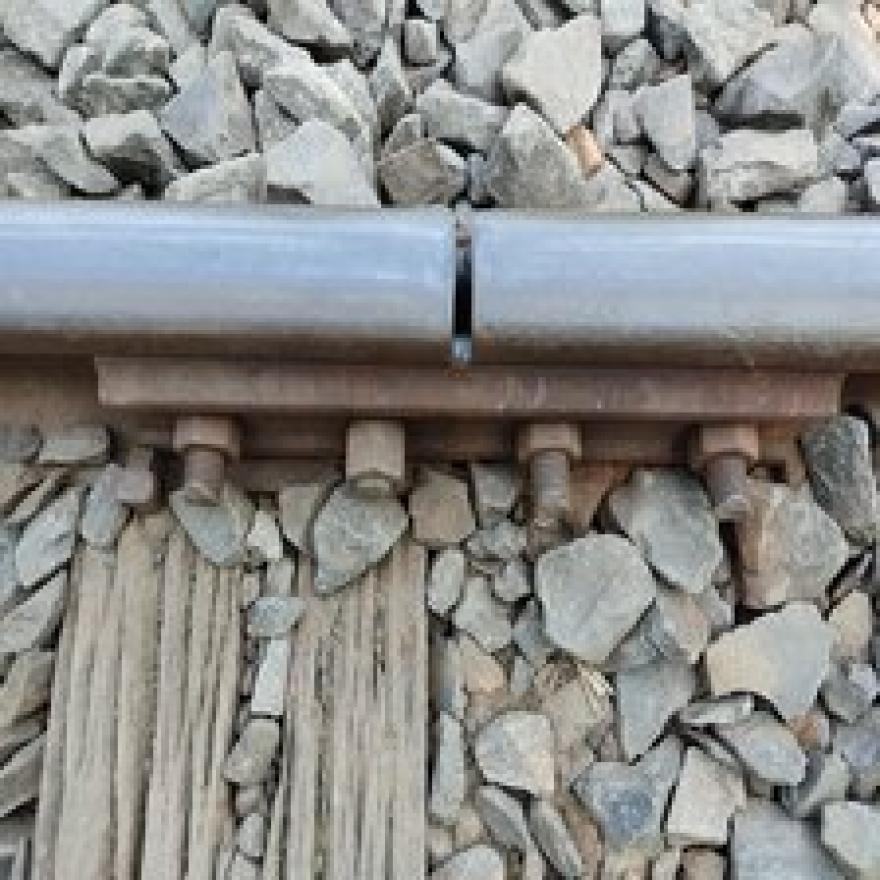railway-gap: (353, 195, 569, 381)
